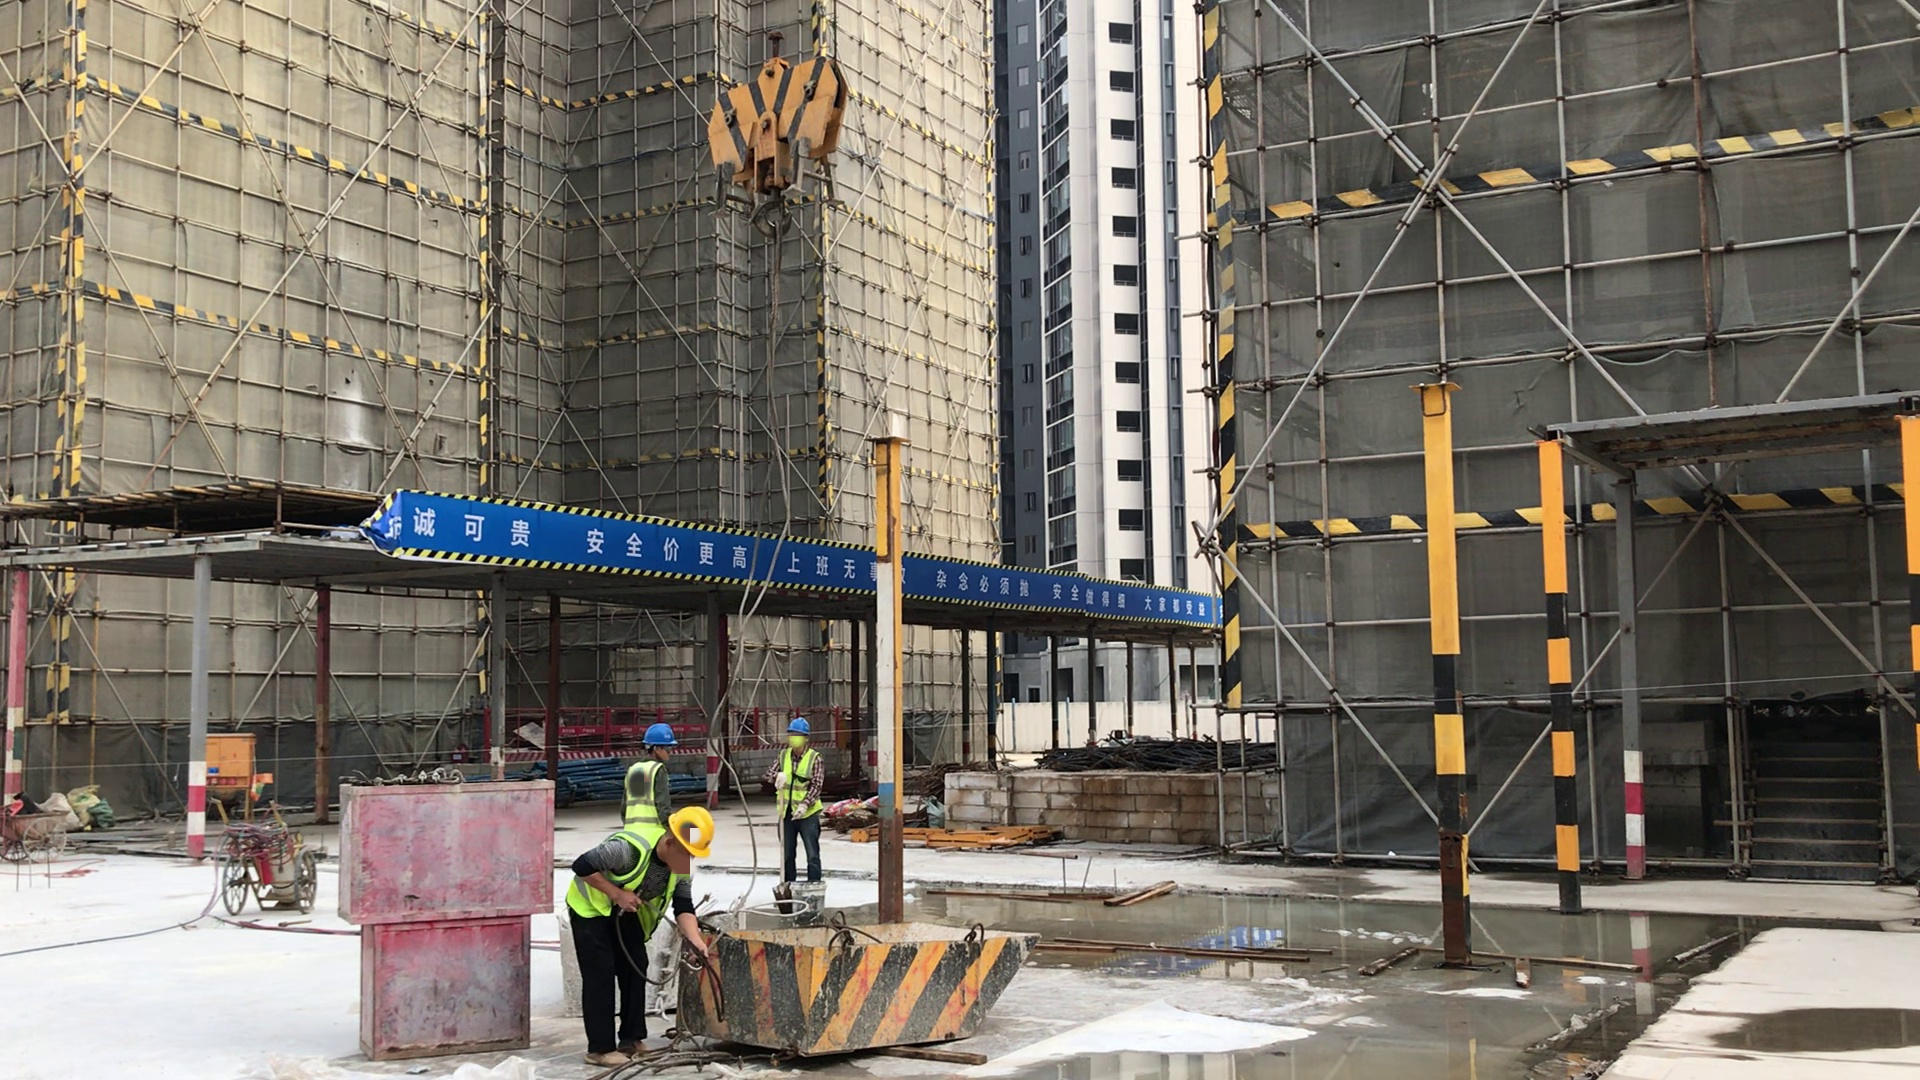ebox: (208, 728, 259, 822)
fence: (564, 706, 641, 757), (736, 706, 782, 751), (509, 709, 545, 764), (685, 707, 704, 755)
handcart: (211, 801, 319, 916), (1, 803, 73, 871)
helmet: (664, 809, 718, 854), (640, 721, 678, 749), (787, 716, 813, 739)
hook: (678, 24, 847, 235)
hopper: (722, 923, 1043, 1045)
person: (562, 808, 719, 1071), (773, 717, 829, 880), (618, 719, 681, 823)
slogan: (395, 489, 871, 595), (904, 552, 1225, 635)
vest: (565, 824, 679, 945), (777, 746, 824, 819), (624, 760, 667, 824)
